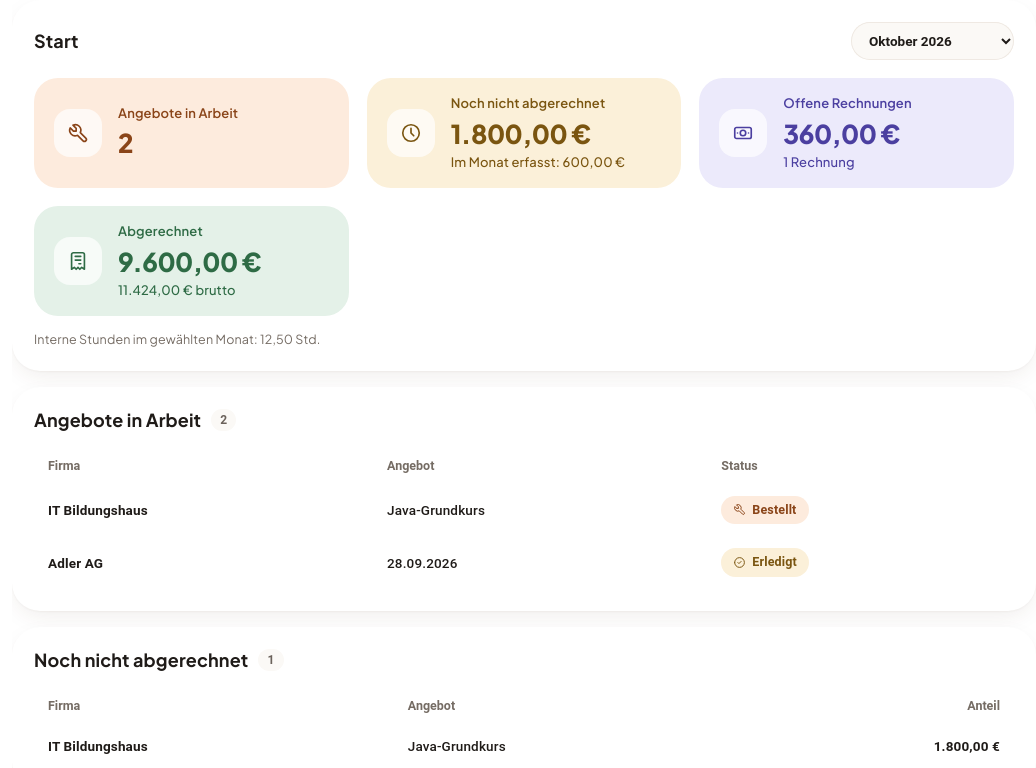
Test: StartseitePage: Karte „Forecast" (Issue #313) › laesst die Zahlen beim Wechsel des Zeitraums stehen und fragt nicht erneut
Step 1. Select "2026" in the dropdown named "Zeitraum" → (932, 41), box [851,22,1014,60]
(page scrolled)
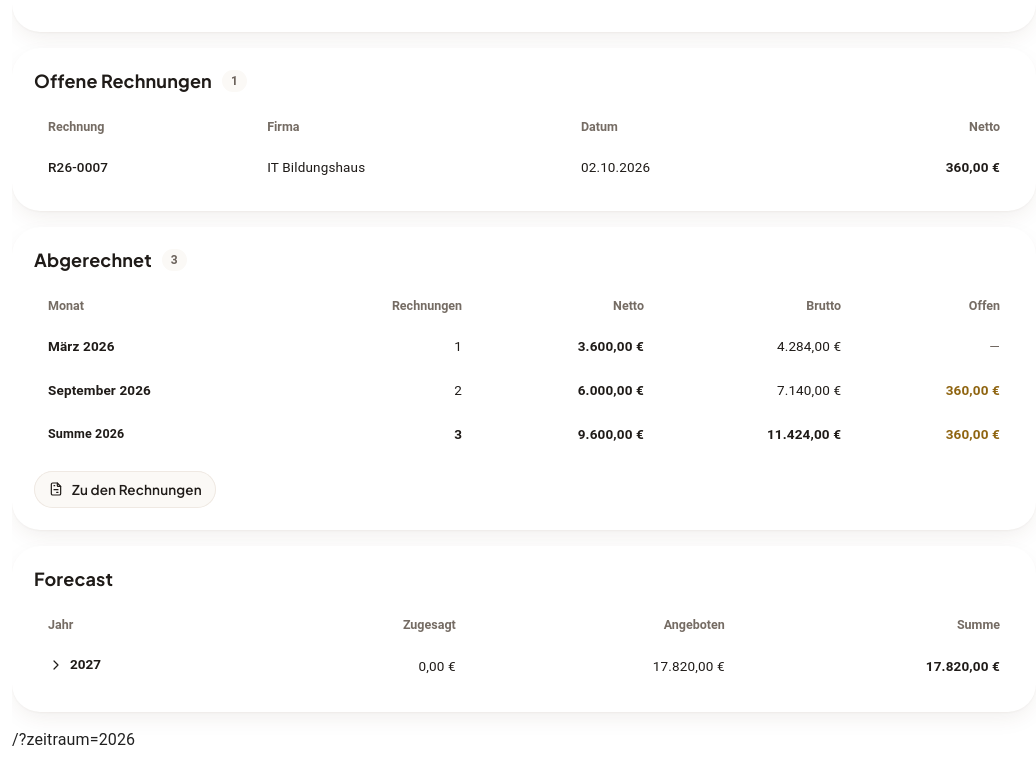
Check: the table named "Abgerechnet" is shown, box [34,289,1014,456]
